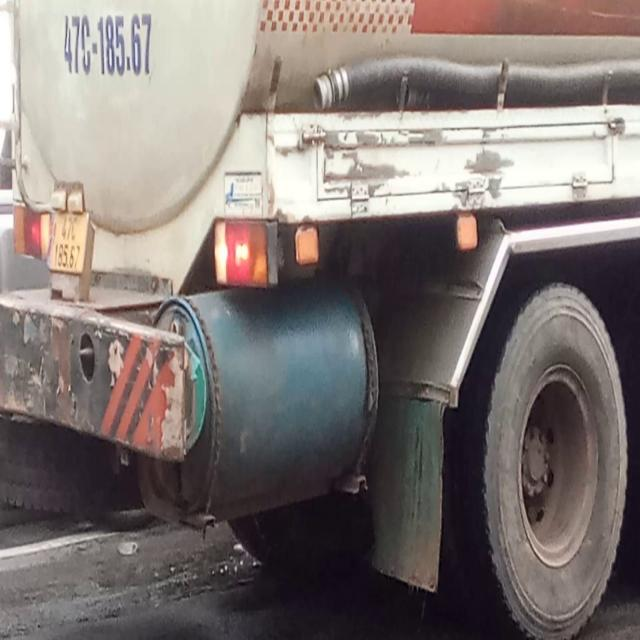bien_vang: (49, 210, 89, 273)
